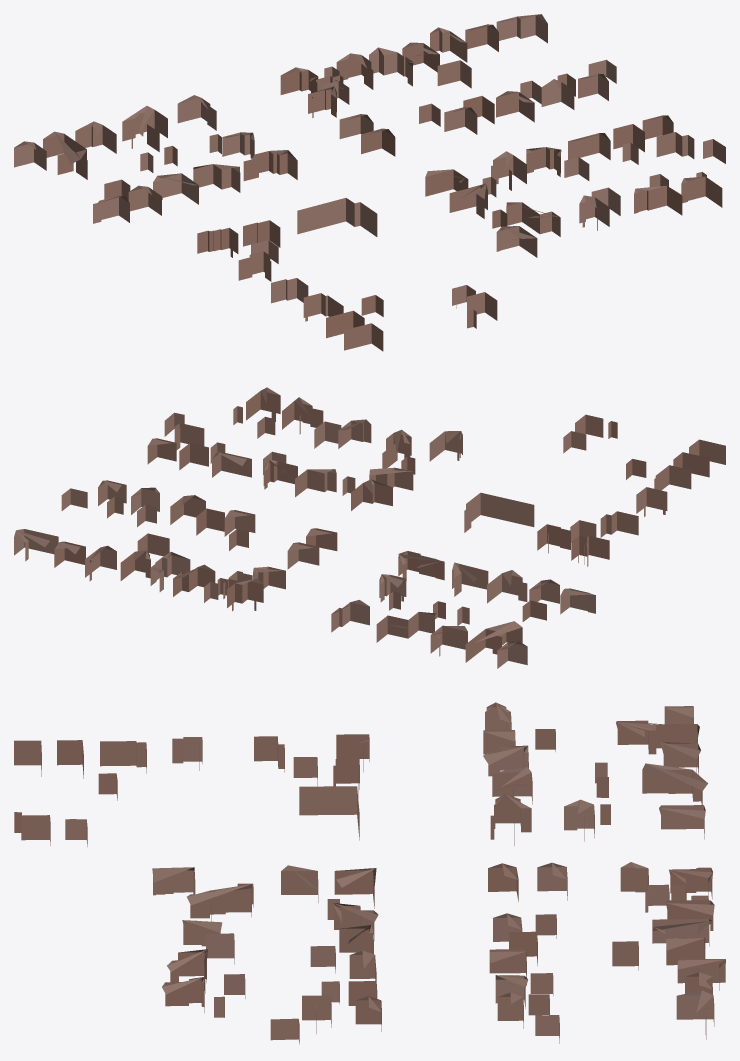
File: c_1645_17829_buildings_residential.glb
3 renders of one model, top to bottom at view 1: azimuth 30°, elevation 25°; view 2: azimuth 150°, elevation 25°; view 3: azimuth 270°, elevation 25°, orthographic. The views are drawn at different scales.
Visible parts, largest first — view 1: geometry_0; view 2: geometry_0; view 3: geometry_0.
Part boxes in pixels (x1=…): geometry_0: x1=14, y1=14, x2=725, y2=351; geometry_0: x1=14, y1=387, x2=725, y2=668; geometry_0: x1=14, y1=702, x2=725, y2=1044.
Size of the model in its own units: 261 by 11.08 by 248.
